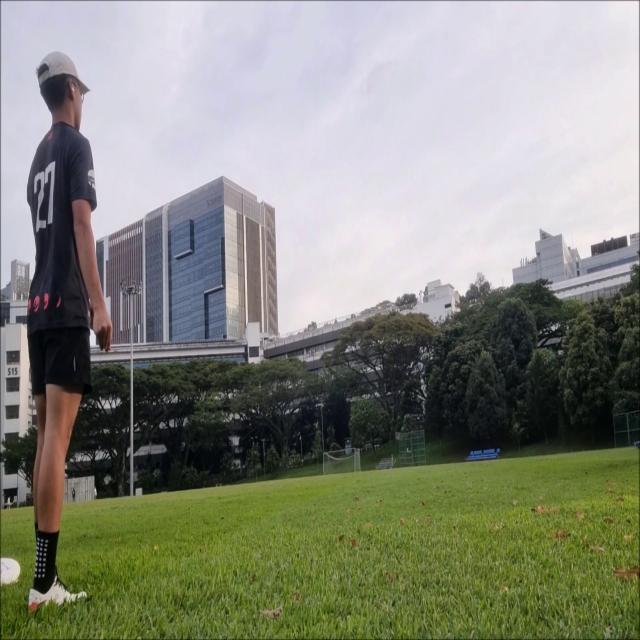disc: (565, 294, 572, 298)
